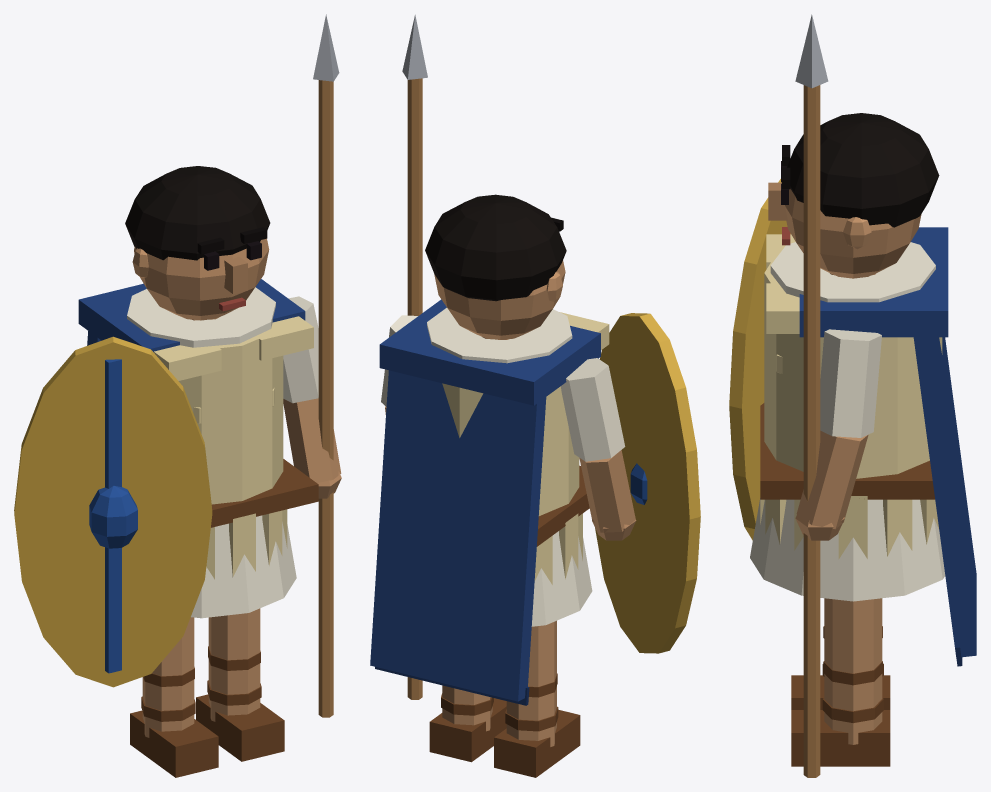
The model's file is egipcjanin.glb.
3 renders of one model, left to right at view 1: azimuth 30°, elevation 25°; view 2: azimuth 150°, elevation 25°; view 3: azimuth 270°, elevation 25°, orthographic. The views are drawn at different scales.
Visible parts, largest first — view 1: reka_l, cialo, glowa, reka_p, noga_p, noga_l; view 2: peleryna, reka_l, cialo, glowa, noga_l, reka_p, noga_p; view 3: cialo, reka_p, glowa, noga_p, peleryna, reka_l, noga_l.
Part boxes in pixels (x1=…): reka_l: x1=14, y1=336, x2=212, y2=687; cialo: x1=78, y1=279, x2=318, y2=618; glowa: x1=125, y1=166, x2=270, y2=320; reka_p: x1=283, y1=14, x2=341, y2=717; noga_p: x1=196, y1=608, x2=284, y2=761; noga_l: x1=130, y1=617, x2=218, y2=777; peleryna: x1=370, y1=370, x2=546, y2=705; reka_l: x1=560, y1=313, x2=700, y2=653; cialo: x1=379, y1=299, x2=609, y2=626; glowa: x1=425, y1=194, x2=566, y2=339; noga_l: x1=494, y1=620, x2=580, y2=777; reka_p: x1=381, y1=14, x2=427, y2=699; noga_p: x1=429, y1=685, x2=506, y2=762; cialo: x1=750, y1=227, x2=948, y2=601; reka_p: x1=795, y1=14, x2=881, y2=777; glowa: x1=768, y1=113, x2=939, y2=278; noga_p: x1=791, y1=598, x2=890, y2=766; peleryna: x1=913, y1=337, x2=976, y2=666; reka_l: x1=729, y1=179, x2=790, y2=540; noga_l: x1=791, y1=626, x2=890, y2=709.
Bounding box in the file's own units: 0.9626 × 2.08 × 0.5987.
